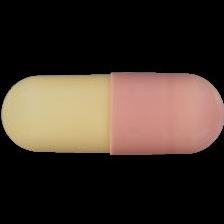0378-8020: (0, 0, 224, 224)
